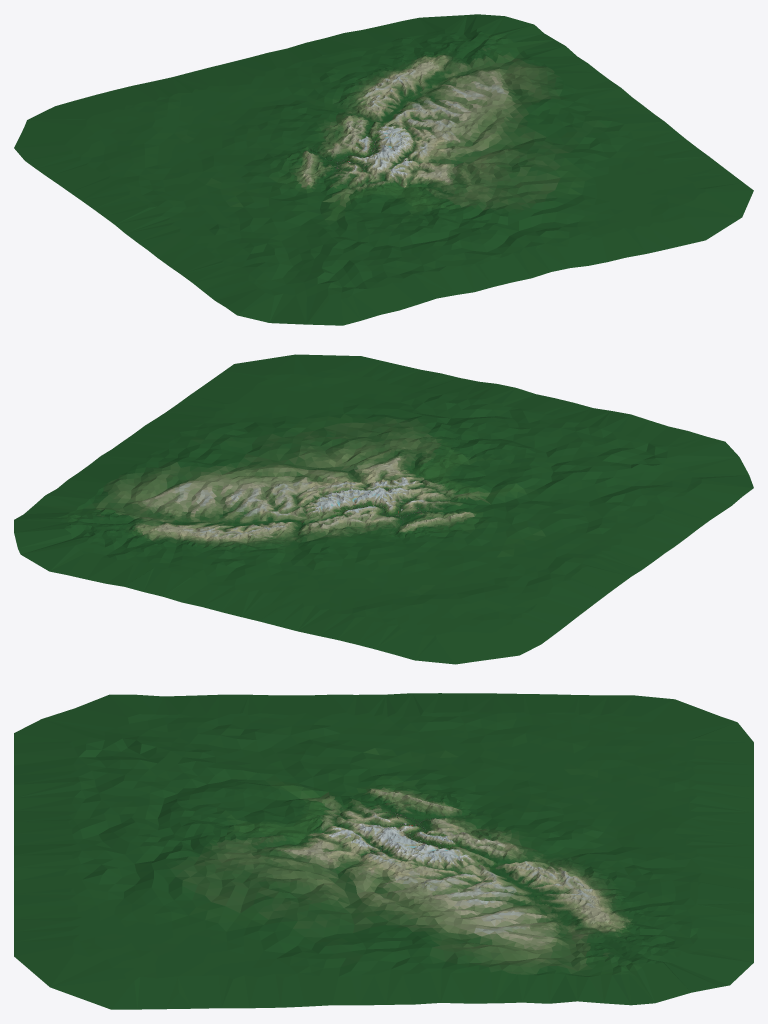
The model's file is scene_full_171.glb.
The picture shows the model from 3 angles, top to bottom: view 1: azimuth 30°, elevation 25°; view 2: azimuth 150°, elevation 25°; view 3: azimuth 270°, elevation 25°; orthographic projection. The views are drawn at different scales.
Parts seen in each view (by area): view 1: map; view 2: map; view 3: map.
Part boxes in pixels (x1,y1,x2,y2): map: [14, 14, 753, 325]; map: [14, 354, 753, 664]; map: [14, 693, 753, 1009].
Size of the model in its own units: 630 by 23.9 by 630.
